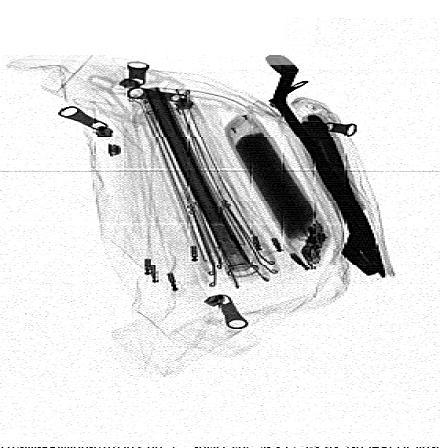Pliers: (298, 112, 385, 280)
Powerbank: (221, 111, 333, 270)
Wrench: (267, 54, 379, 277)
